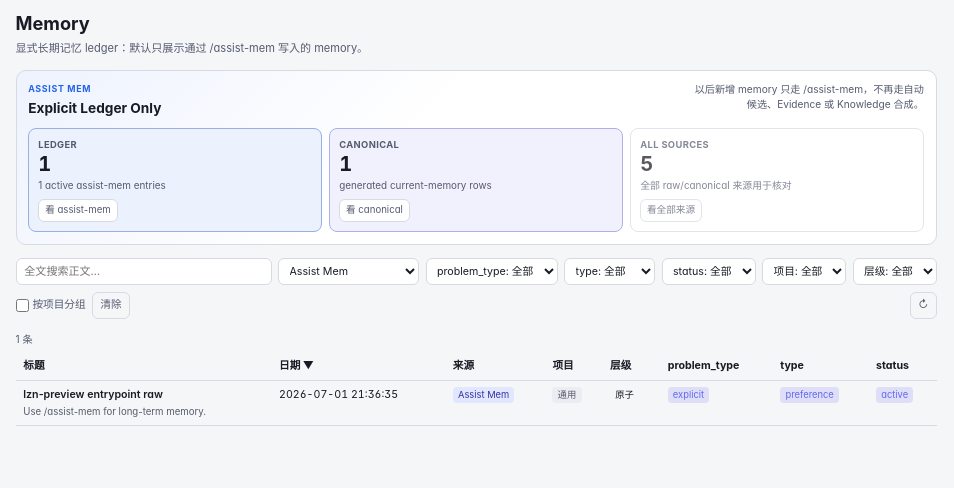
it: MemoryPage › refreshes both the filtered list and the overview catalog
Click the button "↻": (923, 305) [910,292,936,319]
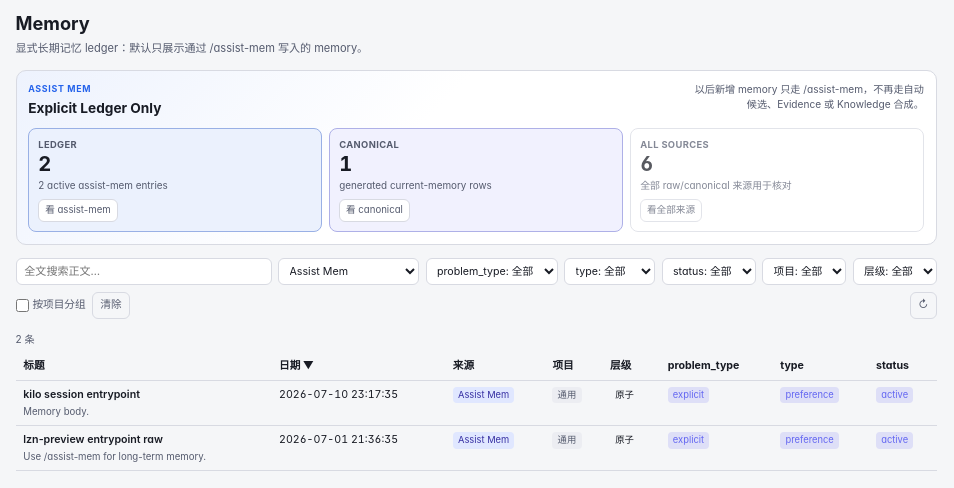
Expected: the text "2 active assist-mem entries" is shown, [38,178,168,190]
Expected: the text "kilo session entrypoint" is shown, [23,388,140,401]
